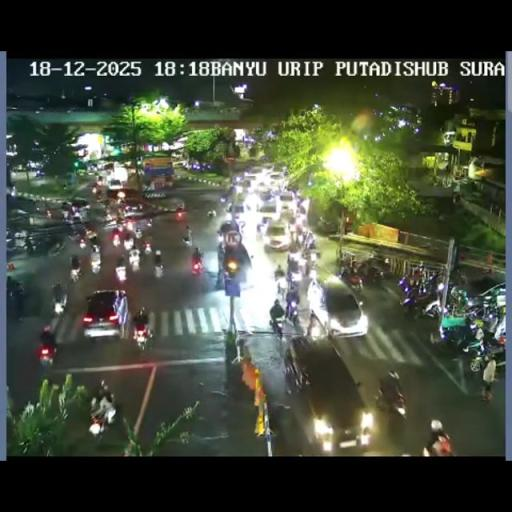Car: (284, 334, 371, 452), (303, 276, 366, 340), (82, 288, 129, 340), (148, 194, 186, 217), (264, 221, 292, 251), (106, 187, 146, 208), (256, 202, 282, 224), (226, 202, 247, 226), (278, 190, 296, 214), (248, 166, 266, 183), (238, 177, 254, 194), (255, 180, 271, 196), (267, 171, 284, 186), (108, 178, 122, 192)
Motorcycle: (59, 202, 102, 272), (108, 214, 158, 274), (184, 397, 230, 442), (438, 316, 481, 355), (88, 398, 116, 440), (476, 337, 507, 374), (376, 380, 406, 418), (425, 422, 453, 455), (6, 278, 26, 319), (131, 318, 152, 352), (340, 264, 366, 291), (401, 287, 423, 316), (420, 297, 444, 321), (358, 409, 374, 444), (449, 286, 469, 314), (363, 262, 386, 286), (38, 338, 55, 368), (462, 302, 486, 323), (420, 272, 438, 298), (269, 311, 285, 338), (492, 308, 506, 338), (316, 216, 337, 234), (284, 298, 298, 324), (274, 274, 288, 299), (47, 238, 65, 257), (190, 250, 204, 274), (451, 268, 468, 287), (114, 257, 128, 280), (305, 246, 321, 266), (287, 248, 301, 270), (128, 247, 141, 269), (288, 266, 302, 285), (294, 195, 308, 214), (293, 216, 305, 238), (90, 248, 100, 274), (6, 236, 18, 256), (473, 323, 485, 343), (84, 226, 98, 242), (122, 232, 134, 250), (53, 297, 65, 315), (70, 263, 80, 283), (214, 269, 224, 289), (111, 228, 122, 246), (154, 260, 164, 278), (308, 264, 318, 282), (25, 237, 35, 255), (124, 218, 135, 233), (142, 238, 152, 254), (106, 211, 118, 224), (93, 184, 104, 198), (77, 234, 87, 249), (307, 234, 316, 250), (182, 232, 192, 246), (134, 226, 144, 239), (72, 211, 82, 224), (62, 210, 72, 222), (481, 266, 493, 275), (216, 230, 224, 243), (115, 214, 123, 226), (207, 208, 216, 218), (219, 194, 227, 203), (46, 208, 52, 218)
